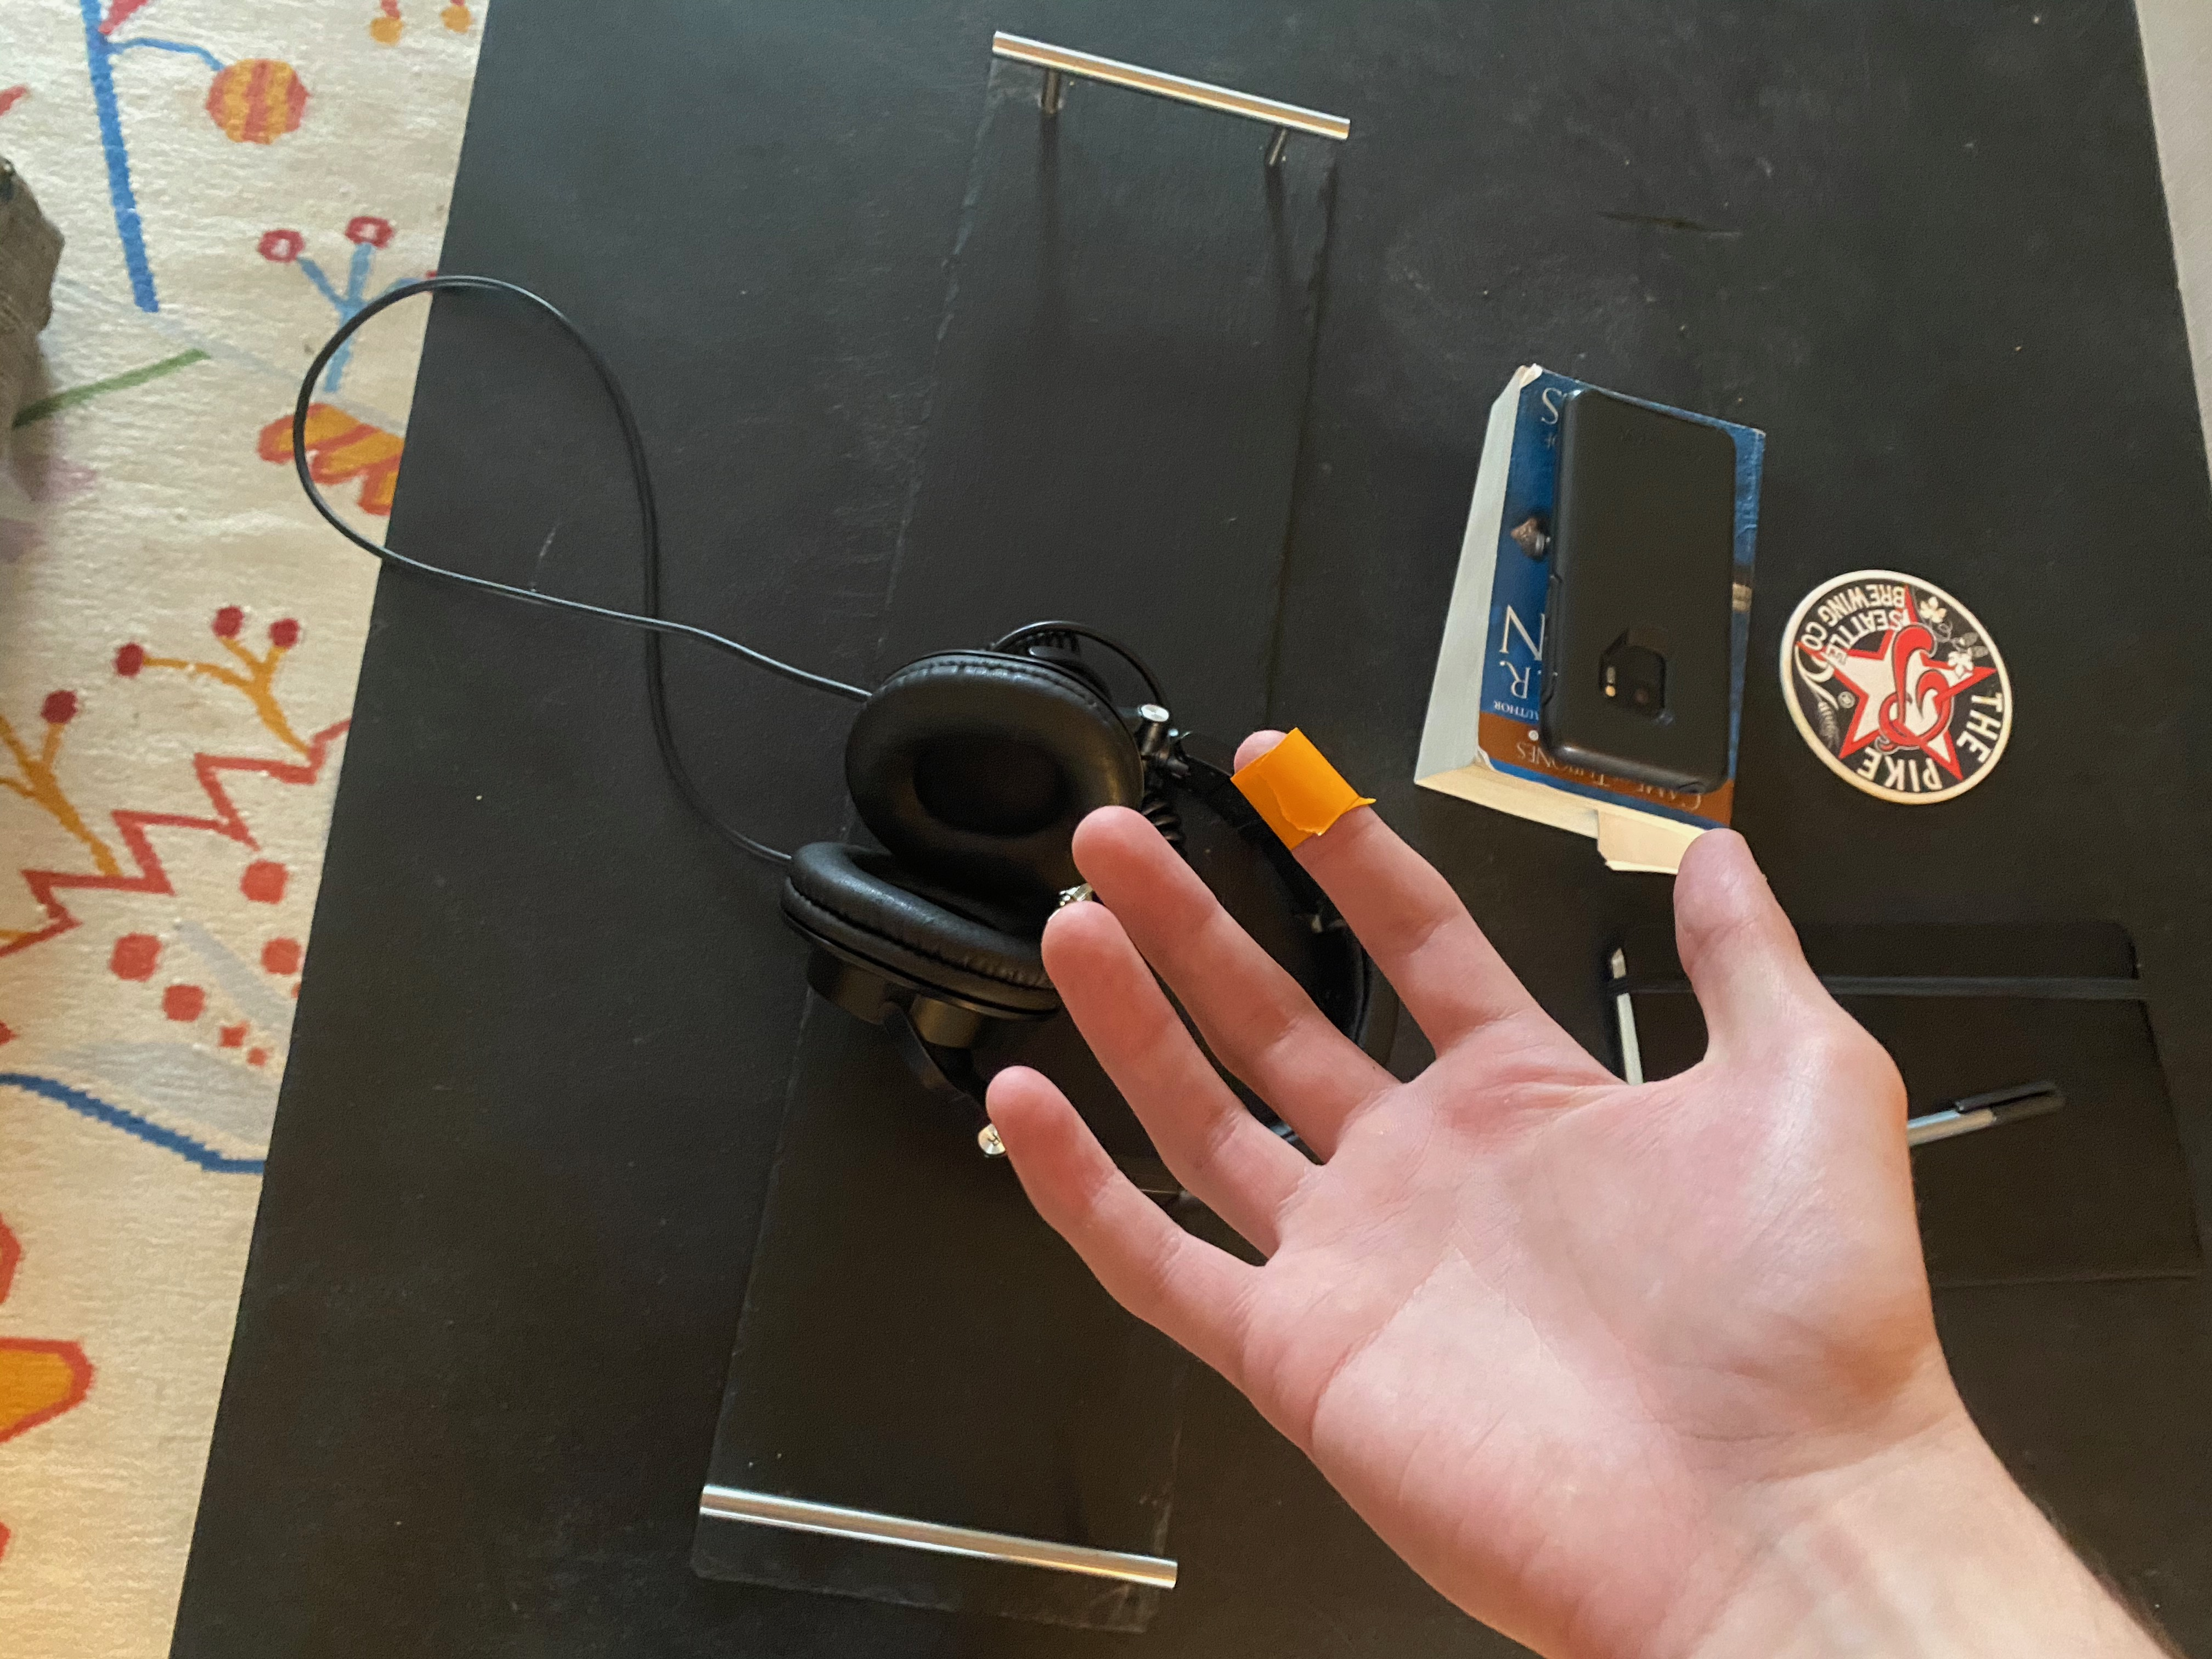fingertip: (1224, 681, 1383, 868)
